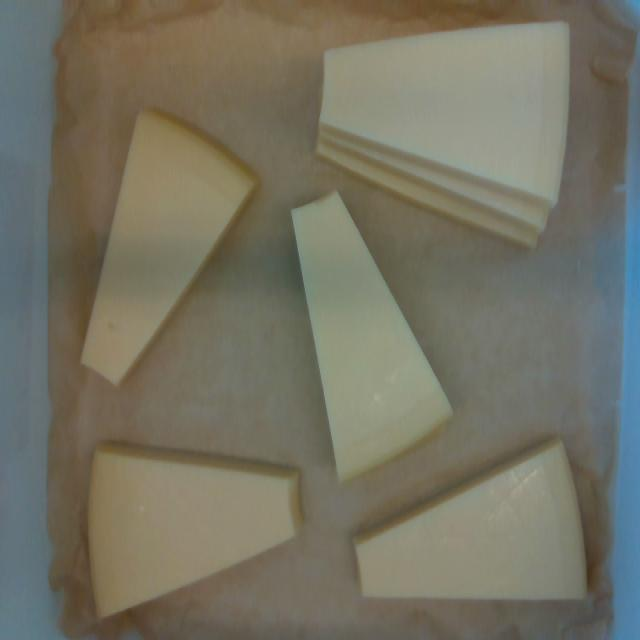cheese: (84, 112, 255, 383), (293, 193, 451, 479), (319, 25, 568, 203), (357, 441, 585, 599), (89, 451, 293, 616)
